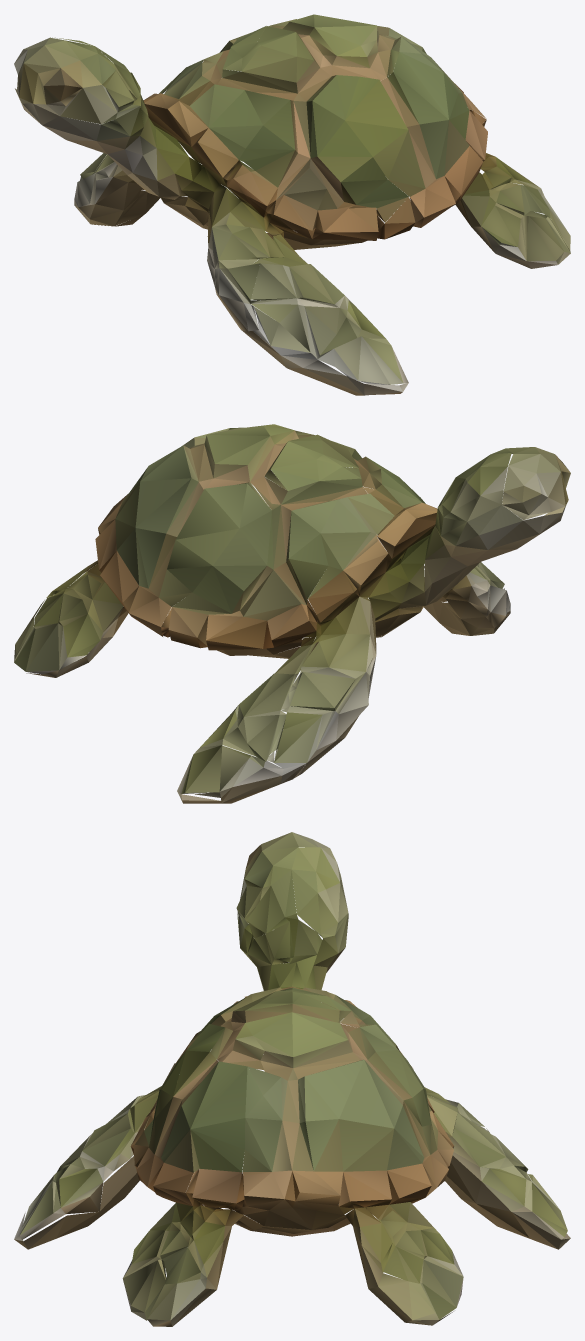
File: animal-turtle.glb
3 renders of one model, top to bottom at view 1: azimuth 30°, elevation 25°; view 2: azimuth 150°, elevation 25°; view 3: azimuth 270°, elevation 25°, orthographic.
Visible parts, largest first — view 1: 0_turtle; view 2: 0_turtle; view 3: 0_turtle.
Boxes of the visible parts, box(x1,y1,x2,y2) form: 0_turtle: box(14, 14, 570, 395); 0_turtle: box(14, 424, 570, 803); 0_turtle: box(14, 832, 570, 1326).
Bounding box in the file's own units: 0.6 × 0.3586 × 0.5877.
